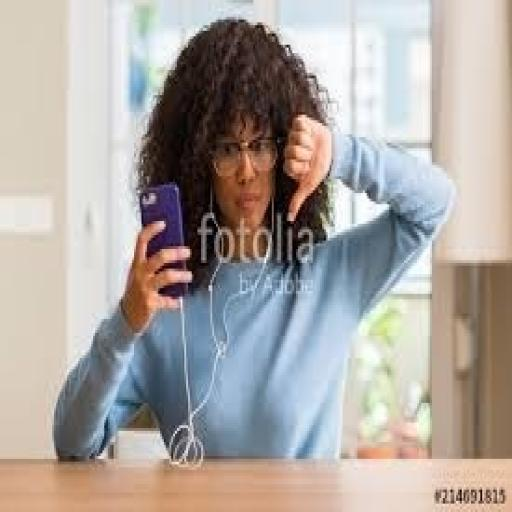texting: (50, 14, 456, 464)
